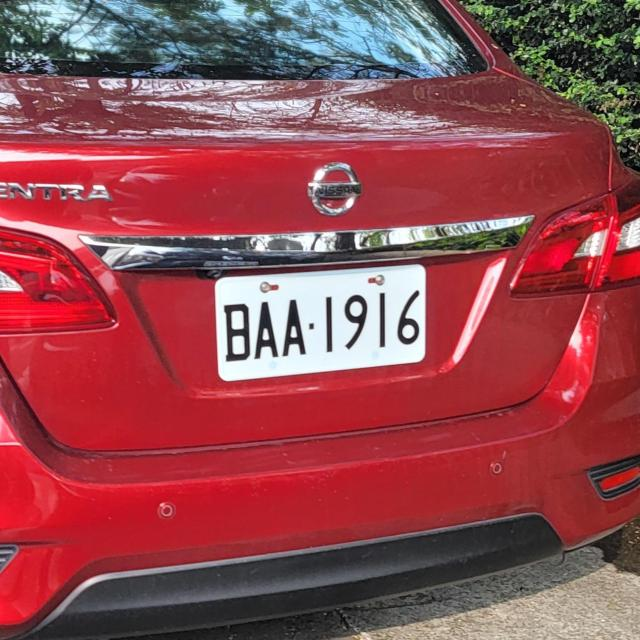W: (211, 262, 433, 382)
